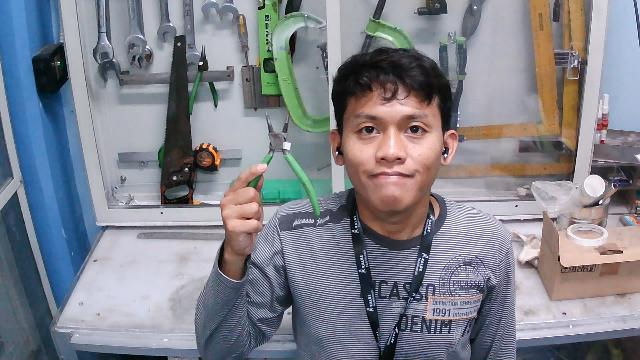tang_cucut_lancip_1: (226, 106, 330, 234)
